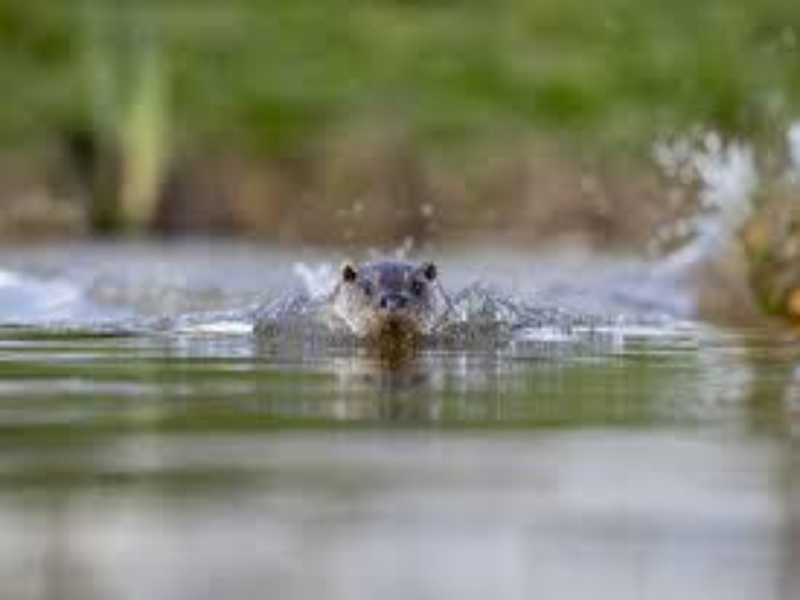minkish: (325, 257, 446, 341)
